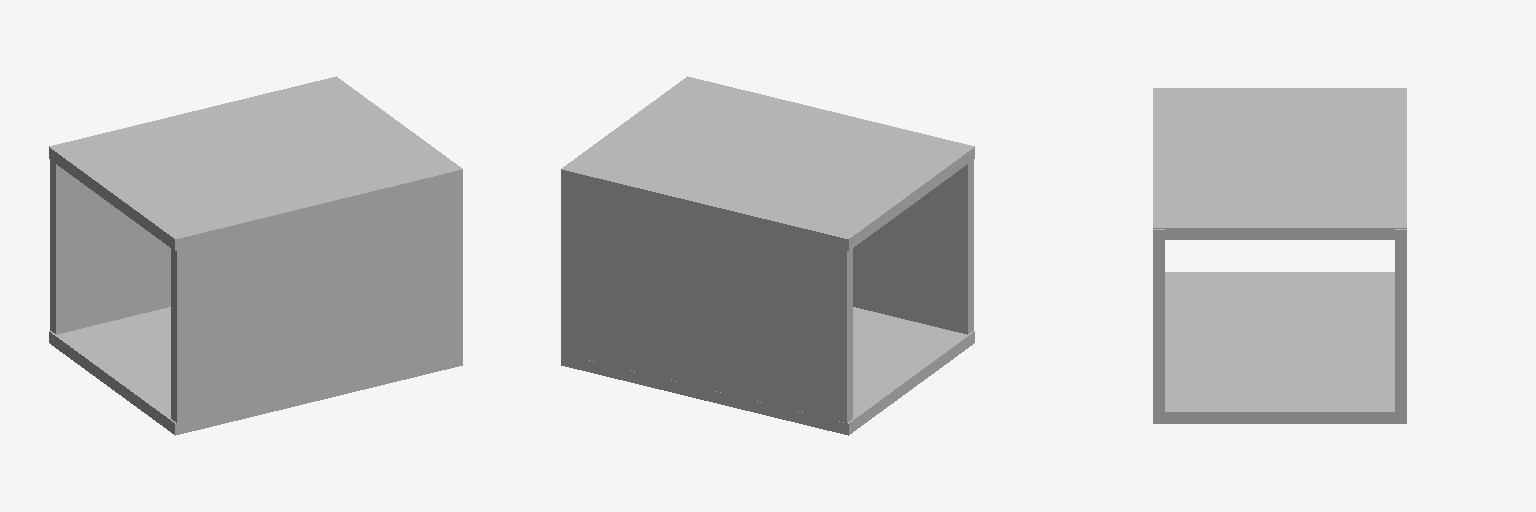
Rendered from cuberoom.obj.
The picture shows the model from 3 angles: view 1: azimuth 30°, elevation 25°; view 2: azimuth 150°, elevation 25°; view 3: azimuth 270°, elevation 25°; orthographic projection.
Parts seen in each view (by area): view 1: Mesh.003_Cube.003_Cube.004; view 2: Mesh.003_Cube.003_Cube.004; view 3: Mesh.003_Cube.003_Cube.004.
Part boxes in pixels (x1,y1,x2,y2): Mesh.003_Cube.003_Cube.004: (49, 76, 462, 435); Mesh.003_Cube.003_Cube.004: (561, 76, 974, 435); Mesh.003_Cube.003_Cube.004: (1153, 88, 1406, 423).
Bounding box in the file's own units: 6.58 × 4.28 × 5.02.